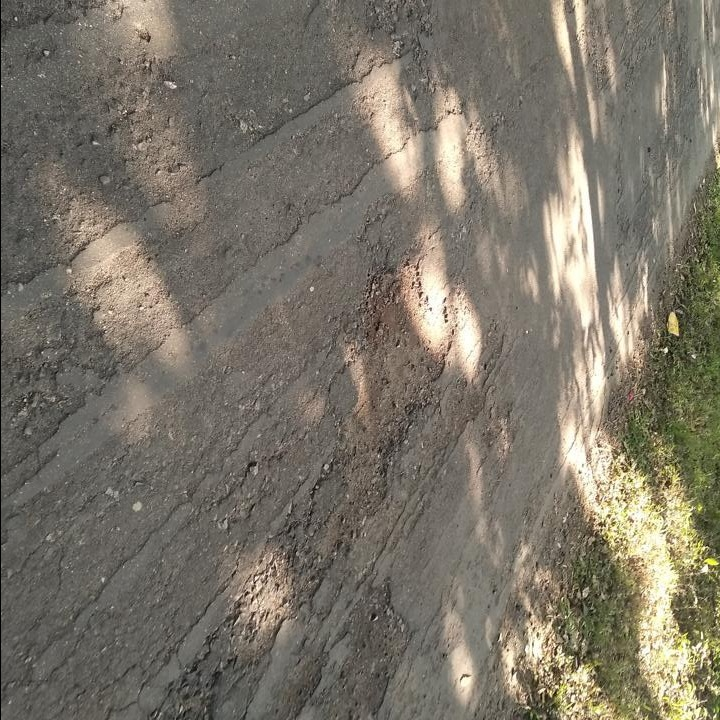pothole: (339, 262, 457, 469), (336, 576, 414, 719)
